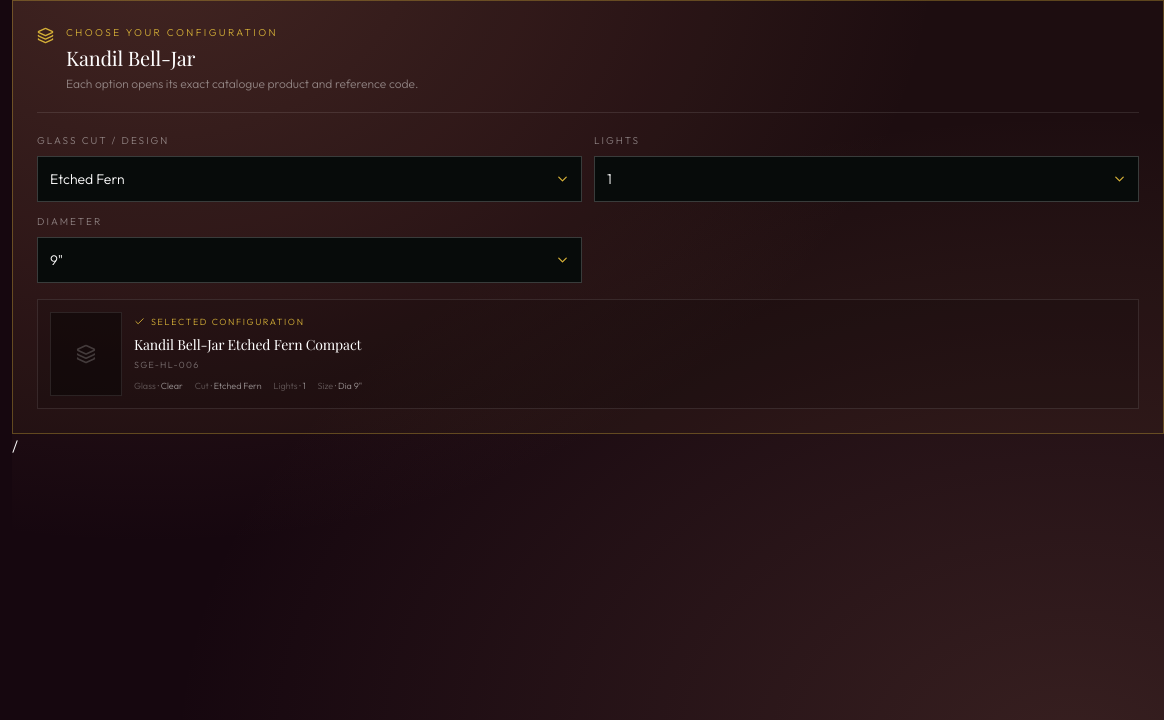
Scenario: shows a verified glass cut dropdown and opens the closest real configuration
This screenshot has width=1164, height=720.
Select "Feather Cut" in the dropdown labelled "Glass cut / design" at (310, 179), box [37,156,582,202]
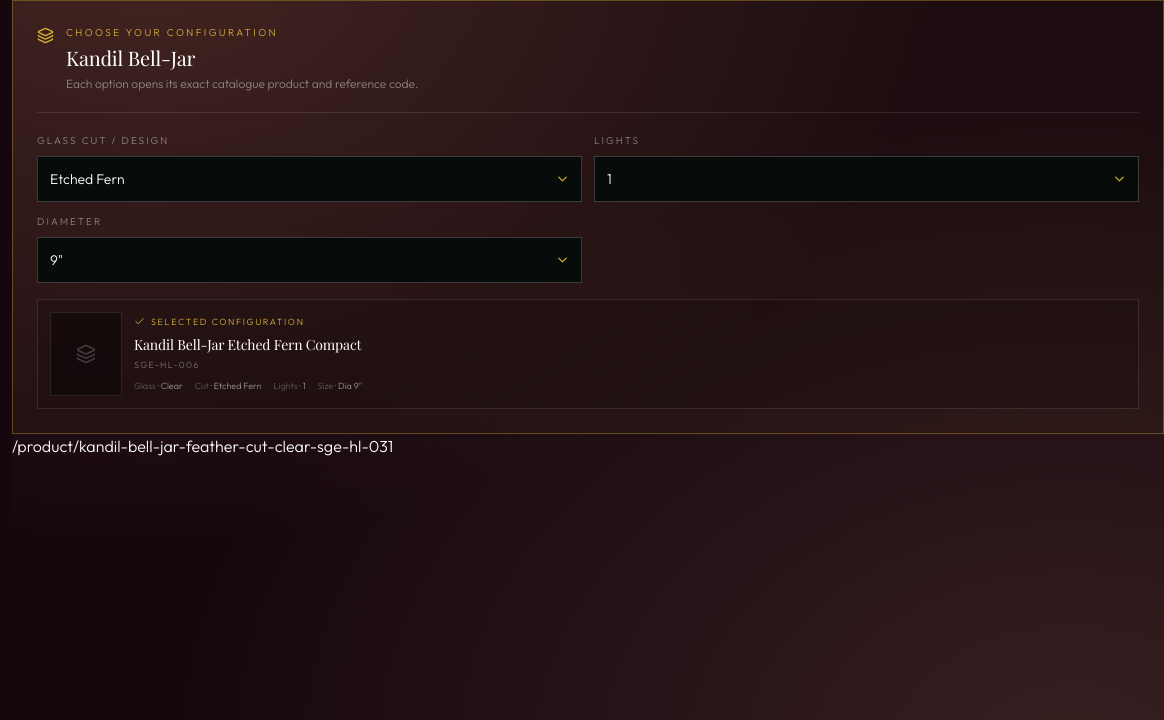
Result: the text with test id "location" shows "sge-hl-031" at [12,436,393,456]
